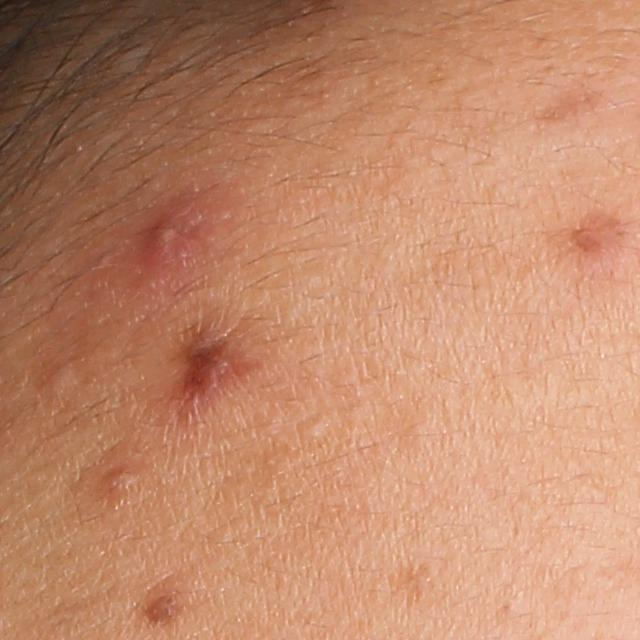comedo: (41, 358, 81, 402), (292, 411, 333, 447)
papule: (133, 192, 217, 280), (94, 455, 153, 501)
